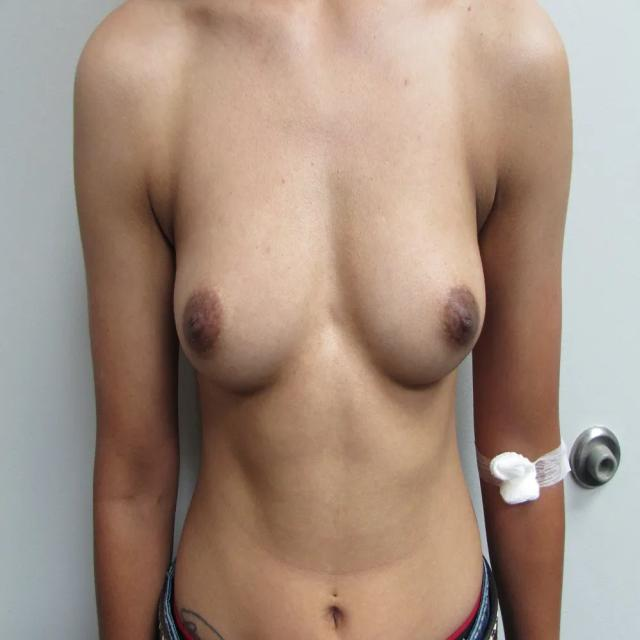Seno ileso: (167, 166, 329, 419), (333, 166, 492, 411)
